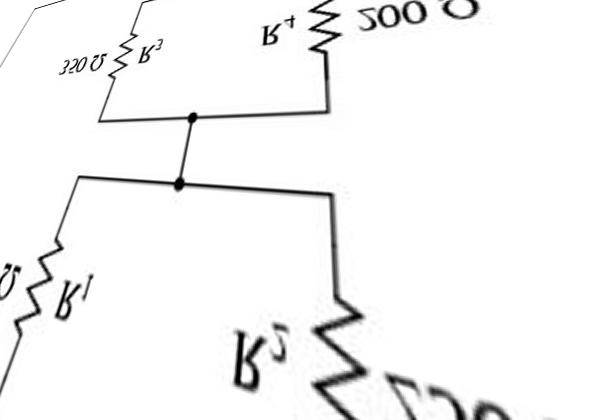resistor: (307, 288, 375, 418), (6, 234, 76, 335), (101, 27, 146, 83), (293, 0, 348, 45)
